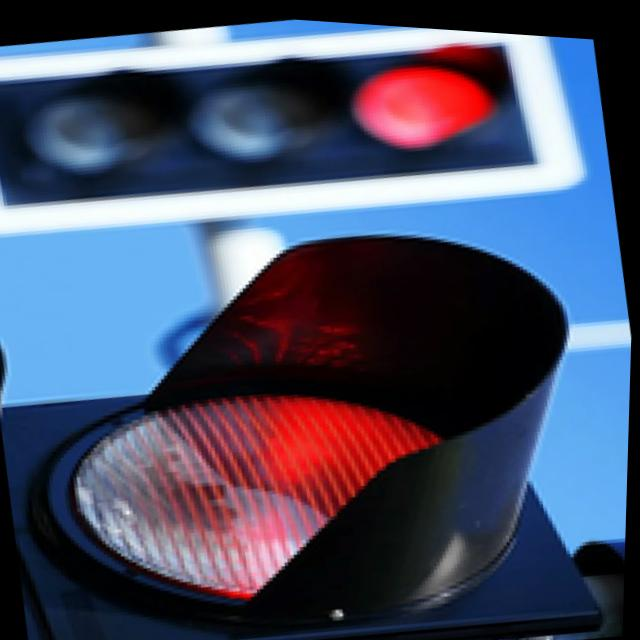red_light: (46, 245, 524, 640)
